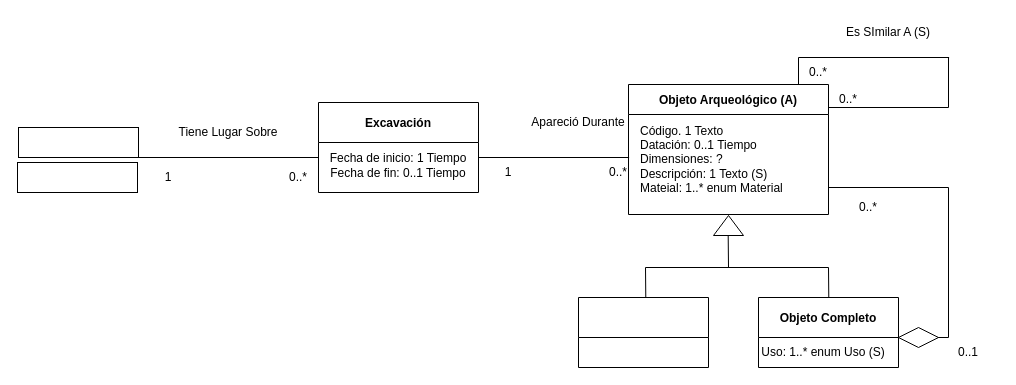
This 1016x385 diagram has some shape labels left out. The centre of each missing label's shape, as x and y in pixels:
Fragmento de Objeto: (x=643, y=332)
Sitio Arqueológico: (x=78, y=142)
